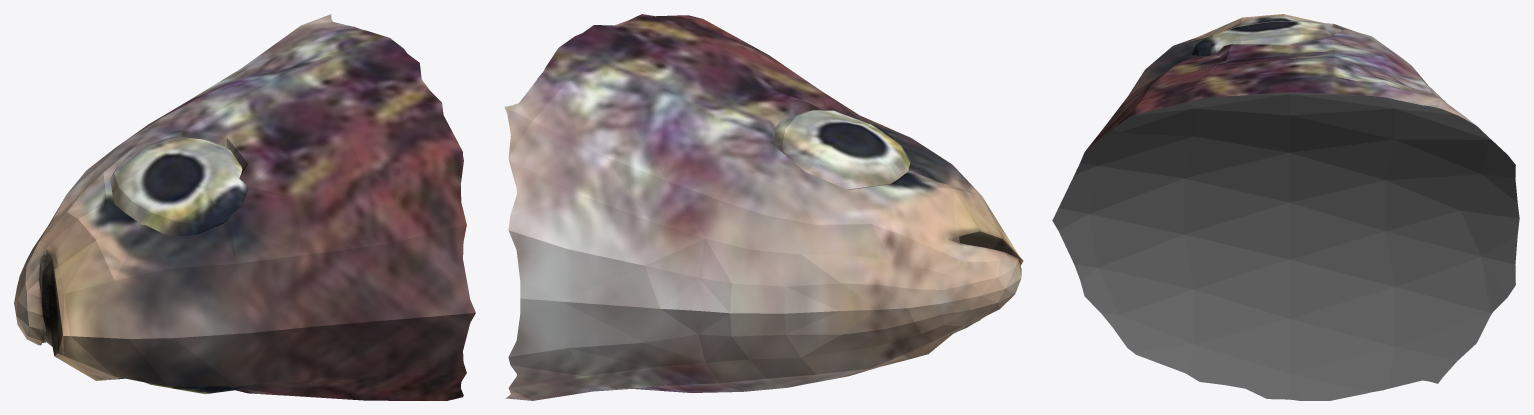
3 views of the same model, side by side, from view 1: azimuth 30°, elevation 25°; view 2: azimuth 150°, elevation 25°; view 3: azimuth 270°, elevation 25° (orthographic). The views are drawn at different scales.
Visible parts, largest first — view 1: link_0_visual; view 2: link_0_visual; view 3: link_0_visual.
Boxes of the visible parts, left/top/right/bottom form: link_0_visual: left=14, top=14, right=475, bottom=400; link_0_visual: left=504, top=14, right=1023, bottom=400; link_0_visual: left=1052, top=14, right=1519, bottom=400.
Bounding box in the file's own units: 0.00242 × 0.0018 × 0.00247.
Materials: 1 (1 with a texture image).
